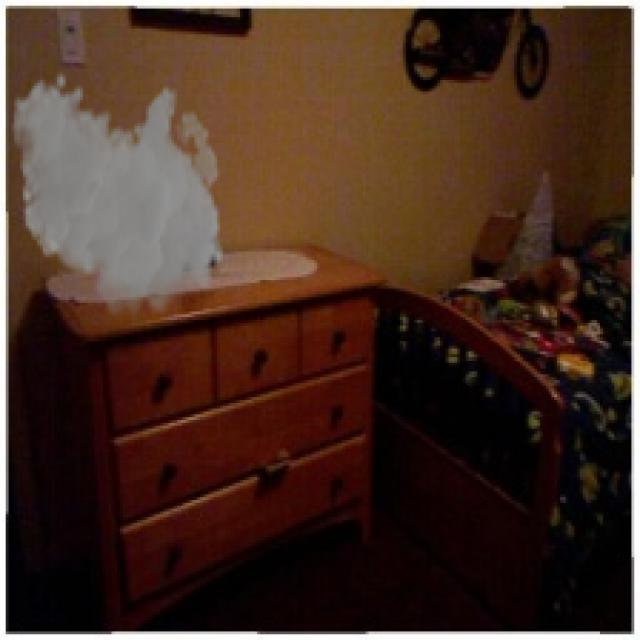Smoke: (11, 71, 226, 326)
